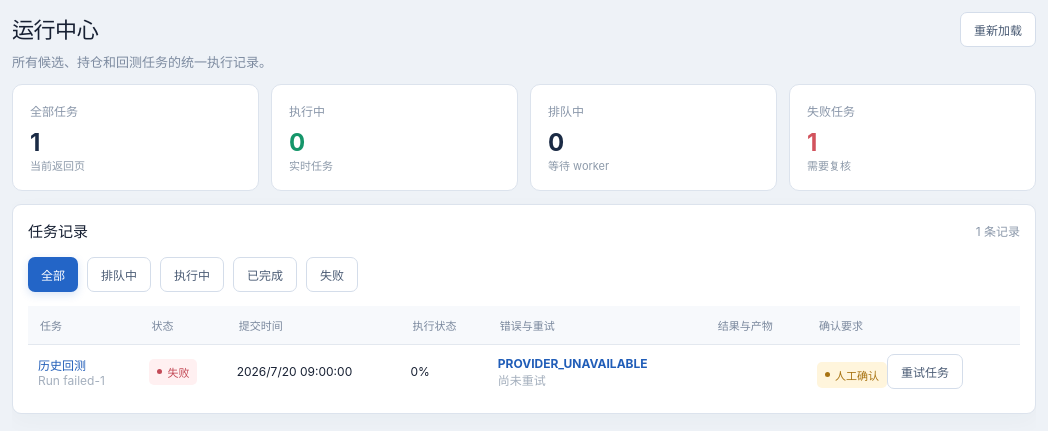
Test: retries only failed runs and refreshes the safe run state
Click the button "重试任务" at (925, 372), box [887, 354, 963, 389]
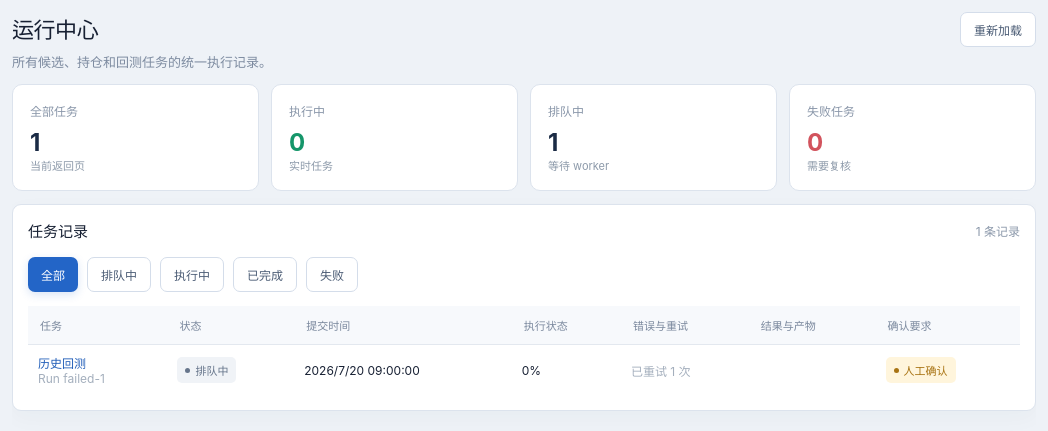
Expected: the text "已重试 1 次" is shown, [631, 364, 690, 378]
Expected: the button "重试任务" is gone
